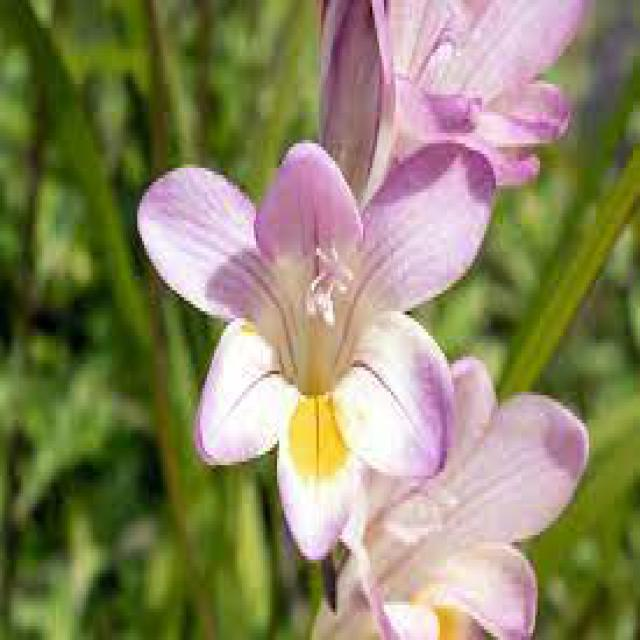freesia: (138, 130, 510, 561)
